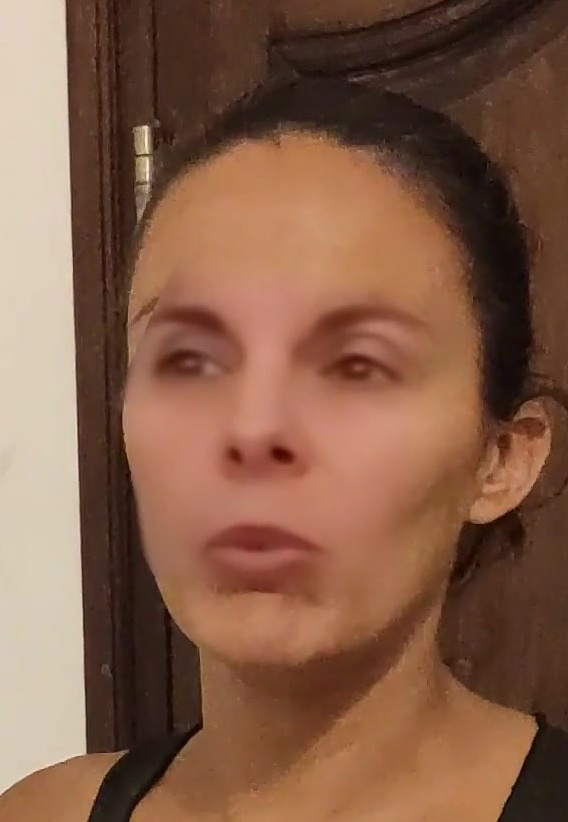eb_f: (123, 280, 435, 405)
